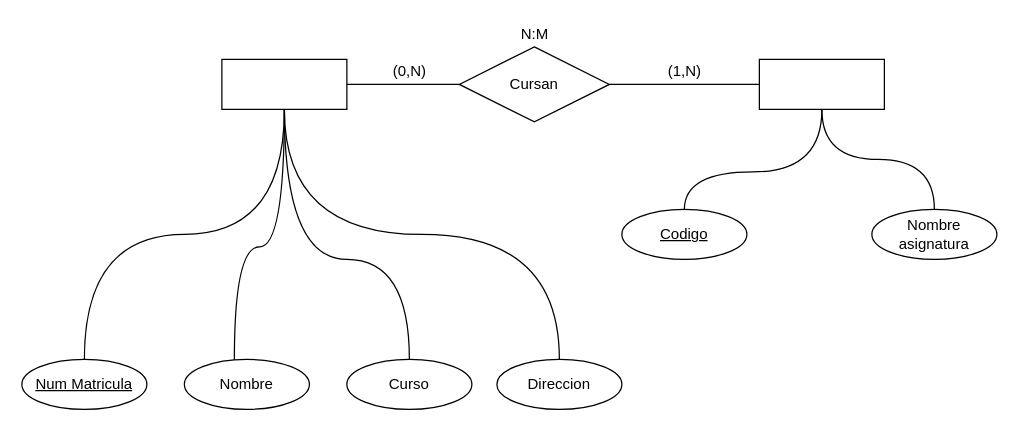
Image size: 1019x431. Some labels were removed from this diagram. The shapes that lost their labels are listed below. From the top down, each one's centre as x and y in pixels, then its label:
At point 284,83: "Alumnos".
At point 821,83: "Asignaturas".
